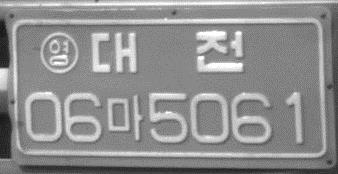0: (187, 91, 230, 146), (23, 90, 63, 143)
1: (284, 88, 305, 145)
5: (146, 90, 189, 143)
6: (231, 90, 271, 146), (63, 91, 102, 143)
대전_D: (90, 29, 244, 75)
마: (105, 93, 144, 143)
영: (39, 31, 79, 74)
